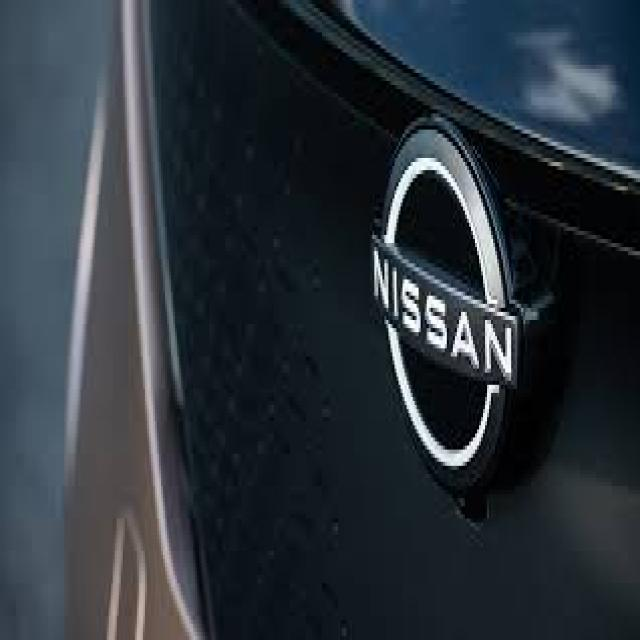nissan: (368, 84, 533, 511)
